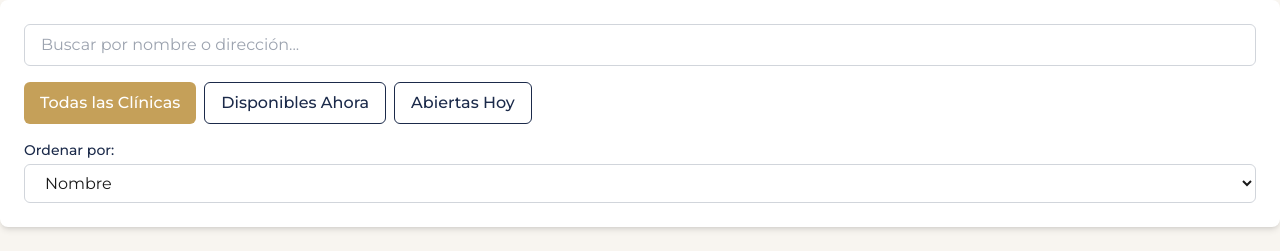
Scenario: ClinicSearchFilter › Clear Filters Functionality › should show clear filters button when sort is not "name"
Select "Distancia" in the dropdown named "Ordenar clínicas". click: (640, 184)
box: [24,164,1256,203]
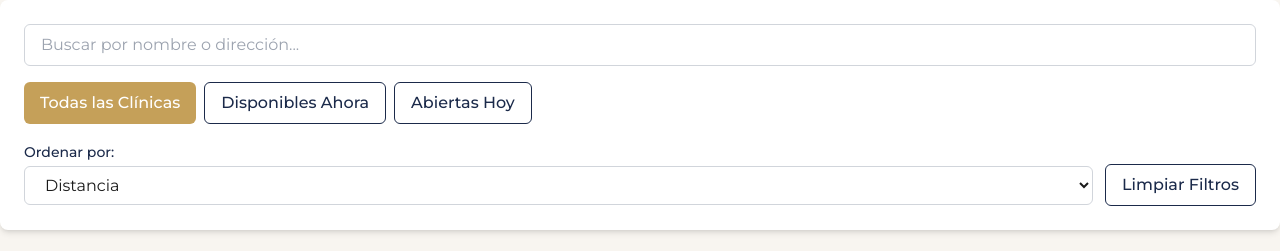
Result: the button with aria-label "Limpiar todos los filtros" is shown at [1105,164,1256,206]
